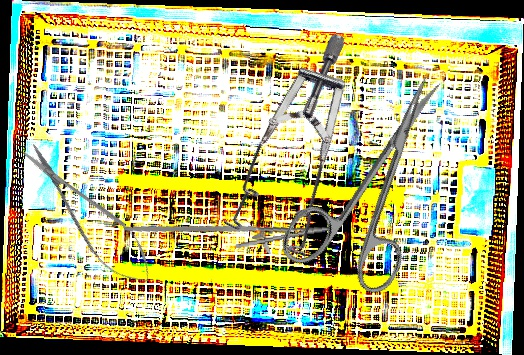Iris Scissors: (274, 51, 489, 310)
Micro Scissor: (11, 133, 165, 297)
Needle Holder: (124, 201, 332, 272)
Speculum: (172, 29, 436, 285)
